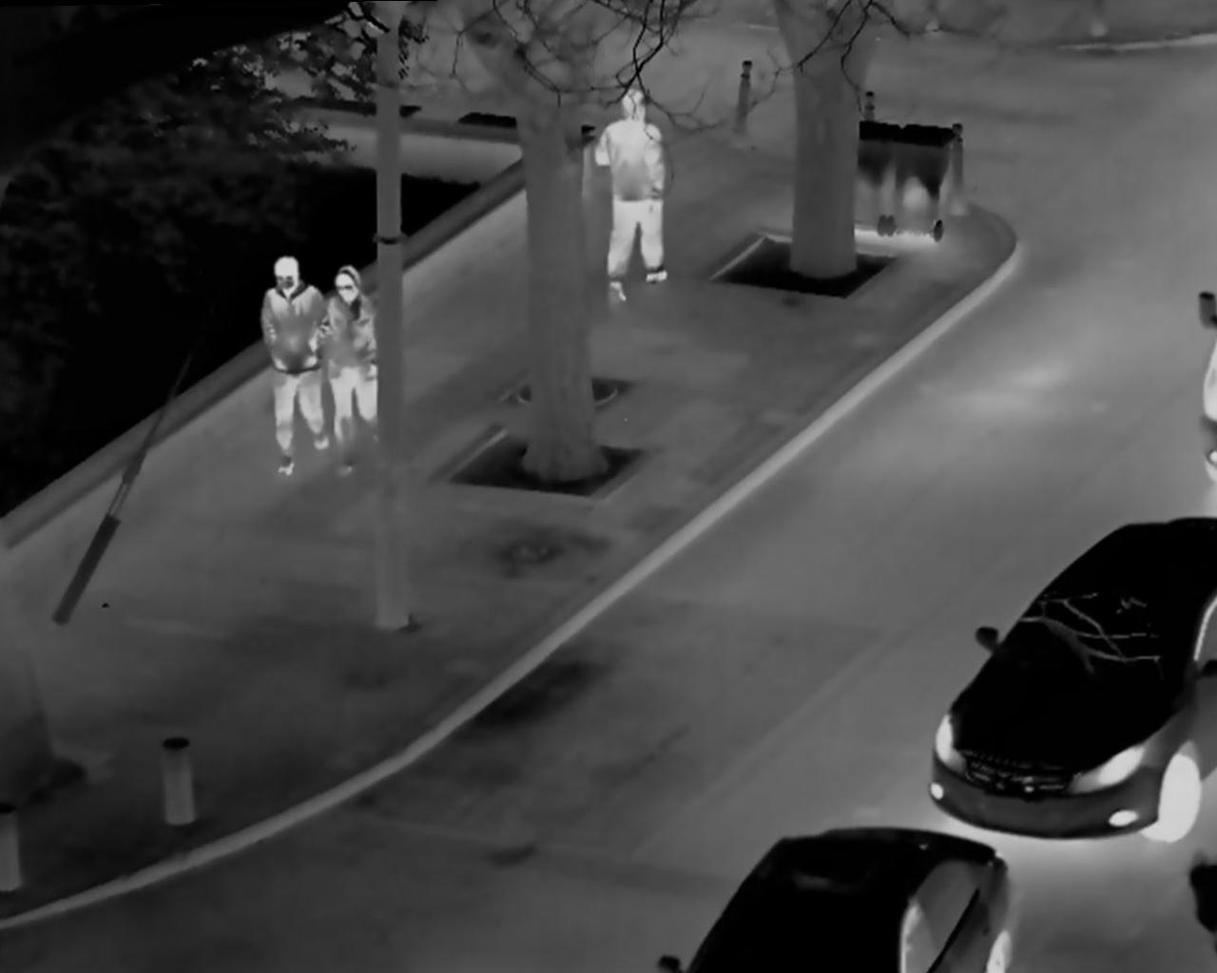person: (590, 79, 682, 318), (254, 247, 326, 480), (311, 257, 387, 468)
